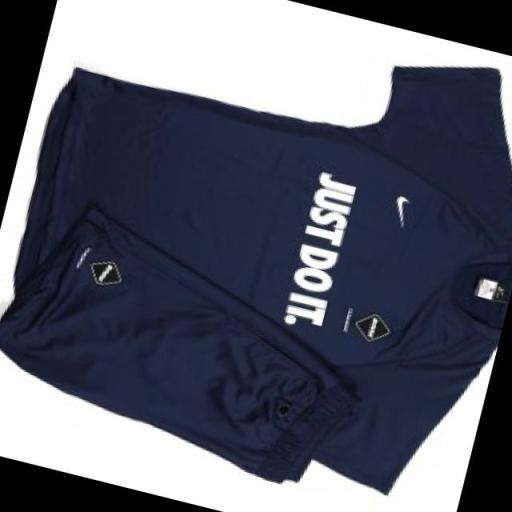Nike: (386, 192, 415, 230)
